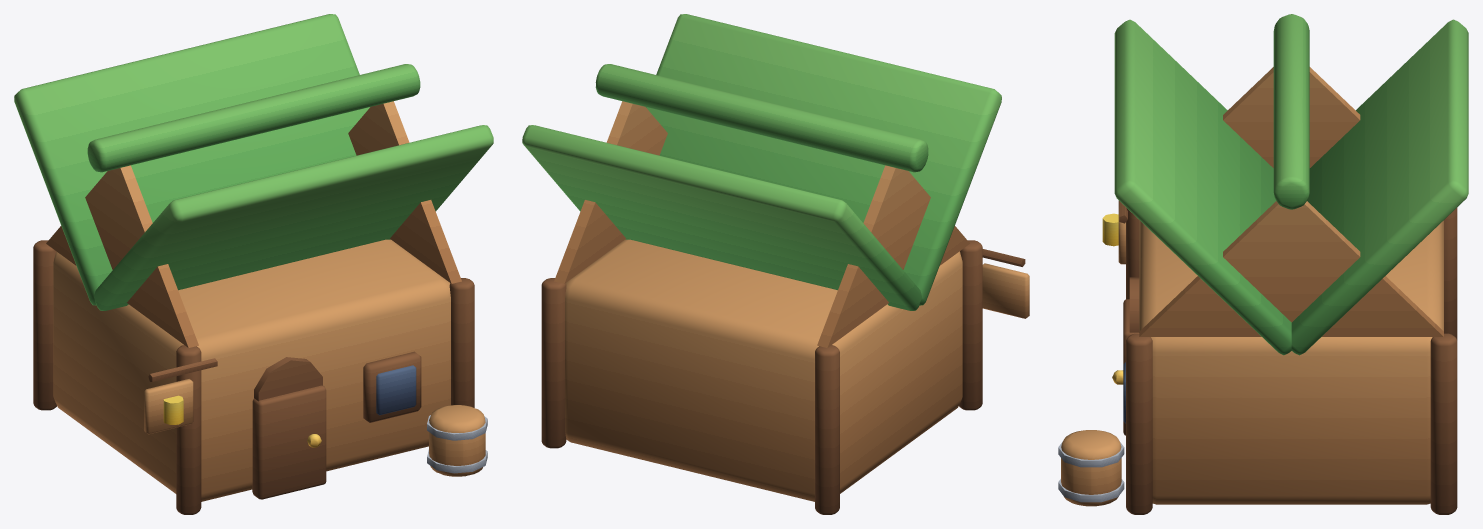
File: tavernG.glb
3 views of the same model, side by side, from view 1: azimuth 30°, elevation 25°; view 2: azimuth 150°, elevation 25°; view 3: azimuth 270°, elevation 25° (orthographic). The views are drawn at different scales.
Parts seen in each view (by area): view 1: tavernG; view 2: tavernG; view 3: tavernG.
Boxes of the visible parts, box(x1,y1,x2,y2) form: tavernG: box(14, 14, 493, 514); tavernG: box(522, 14, 1029, 514); tavernG: box(1058, 14, 1468, 514).
Size of the model in its own units: 1.34 by 1.19 by 1.28.
Materials: 1 (1 with a texture image).
